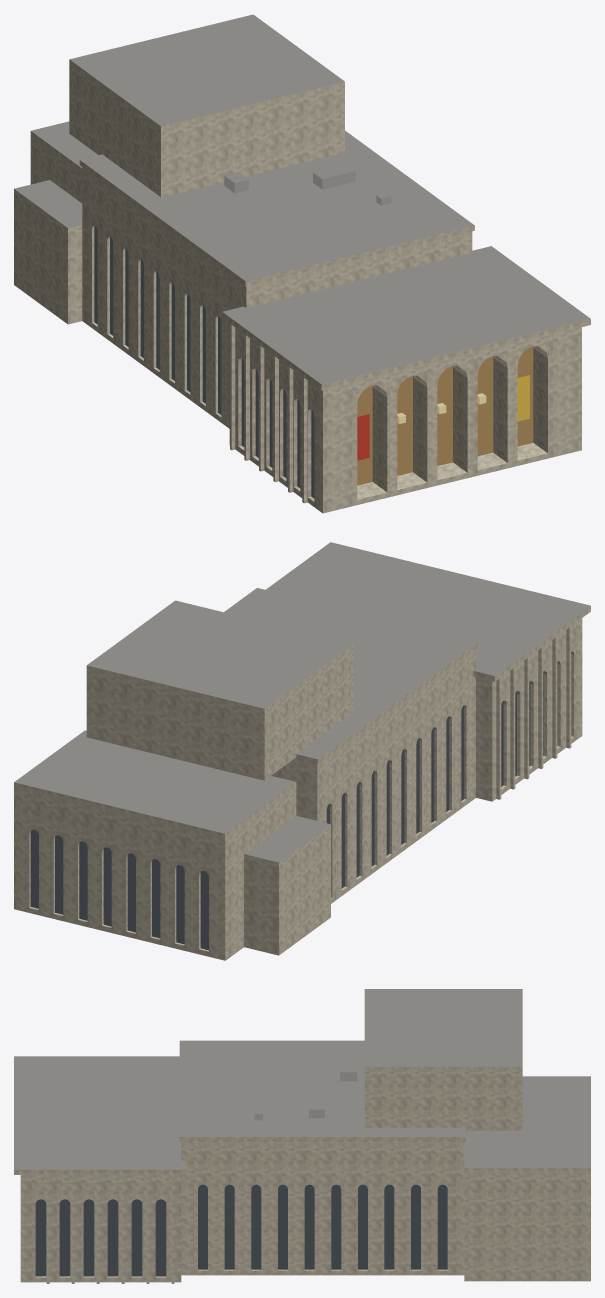
Rendered from lincoln_center_met_opera.glb.
3 renders of one model, top to bottom at view 1: azimuth 30°, elevation 25°; view 2: azimuth 150°, elevation 25°; view 3: azimuth 270°, elevation 25°, orthographic. The views are drawn at different scales.
Visible parts, largest first — view 1: lincoln_center_met_opera; view 2: lincoln_center_met_opera; view 3: lincoln_center_met_opera.
Boxes of the visible parts, x1,y1,x2,y2 form: lincoln_center_met_opera: [14, 14, 590, 513]; lincoln_center_met_opera: [14, 542, 590, 960]; lincoln_center_met_opera: [14, 989, 590, 1283].
Bounding box in the file's own units: 64.4 × 53 × 139.
2 materials, 2 textured.
